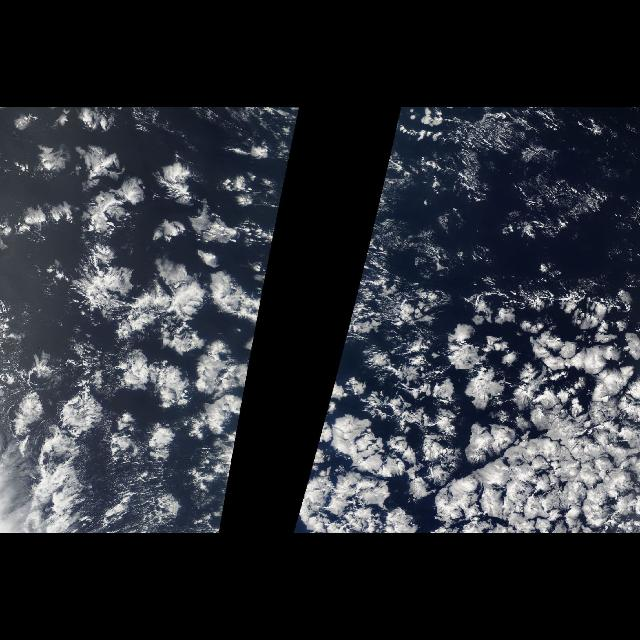Flower: (6, 109, 292, 524), (290, 278, 640, 534)
